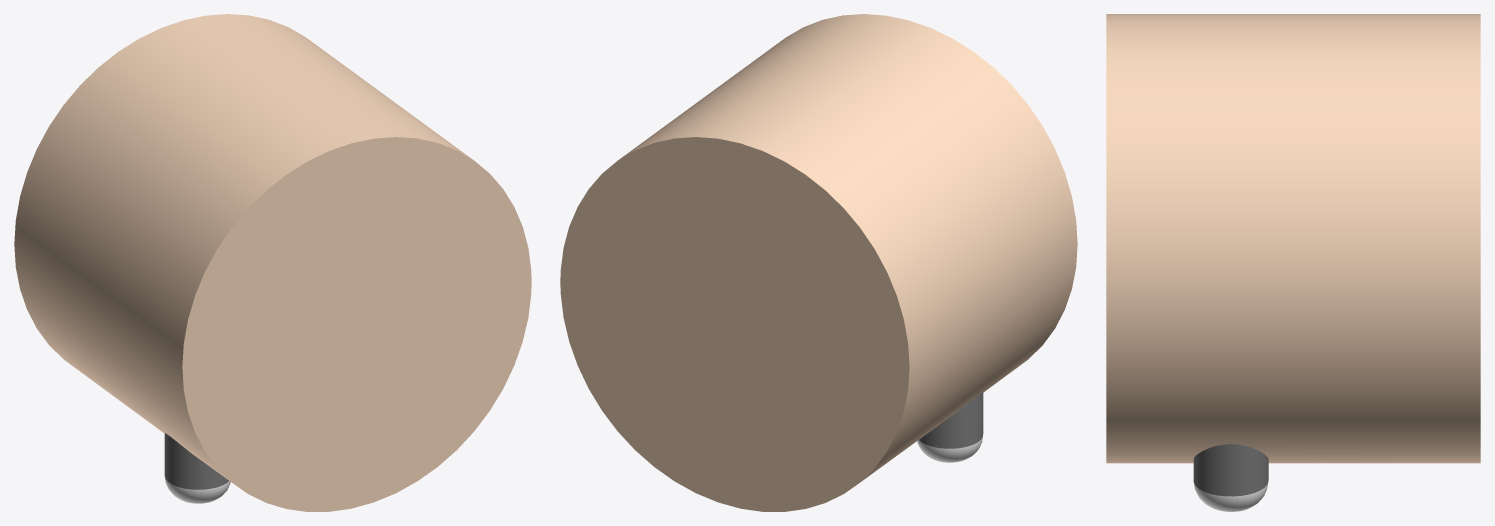
Rendered from torso.obj.
The picture shows the model from 3 angles, left to right: view 1: azimuth 30°, elevation 25°; view 2: azimuth 150°, elevation 25°; view 3: azimuth 270°, elevation 25°; orthographic projection. The views are drawn at different scales.
Parts seen in each view (by area): view 1: Root|torso_(Default)|Default|Default_-_Part, Root|torso_(Default)|Default|Default_-_Part_2, Root|torso_(Default)|Default|Default_-_Part_4; view 2: Root|torso_(Default)|Default|Default_-_Part, Root|torso_(Default)|Default|Default_-_Part_2, Root|torso_(Default)|Default|Default_-_Part_4; view 3: Root|torso_(Default)|Default|Default_-_Part, Root|torso_(Default)|Default|Default_-_Part_2, Root|torso_(Default)|Default|Default_-_Part_4.
Boxes of the visible parts, x1,y1,x2,y2 form: Root|torso_(Default)|Default|Default_-_Part: [14, 14, 531, 511]; Root|torso_(Default)|Default|Default_-_Part_2: [164, 433, 228, 489]; Root|torso_(Default)|Default|Default_-_Part_4: [164, 476, 230, 503]; Root|torso_(Default)|Default|Default_-_Part: [560, 14, 1077, 511]; Root|torso_(Default)|Default|Default_-_Part_2: [919, 392, 983, 448]; Root|torso_(Default)|Default|Default_-_Part_4: [917, 437, 982, 462]; Root|torso_(Default)|Default|Default_-_Part: [1106, 14, 1480, 463]; Root|torso_(Default)|Default|Default_-_Part_2: [1193, 444, 1268, 496]; Root|torso_(Default)|Default|Default_-_Part_4: [1194, 482, 1268, 511].
Size of the model in its own units: 0.3 by 0.3049 by 0.25.
